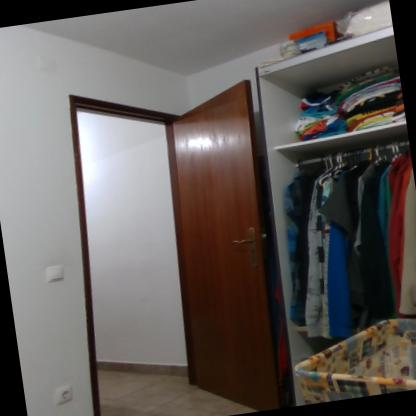open: (44, 58, 306, 415)
